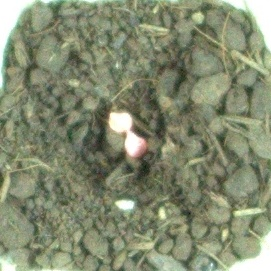pepper seed: (49, 53, 198, 212), (40, 42, 174, 177)
